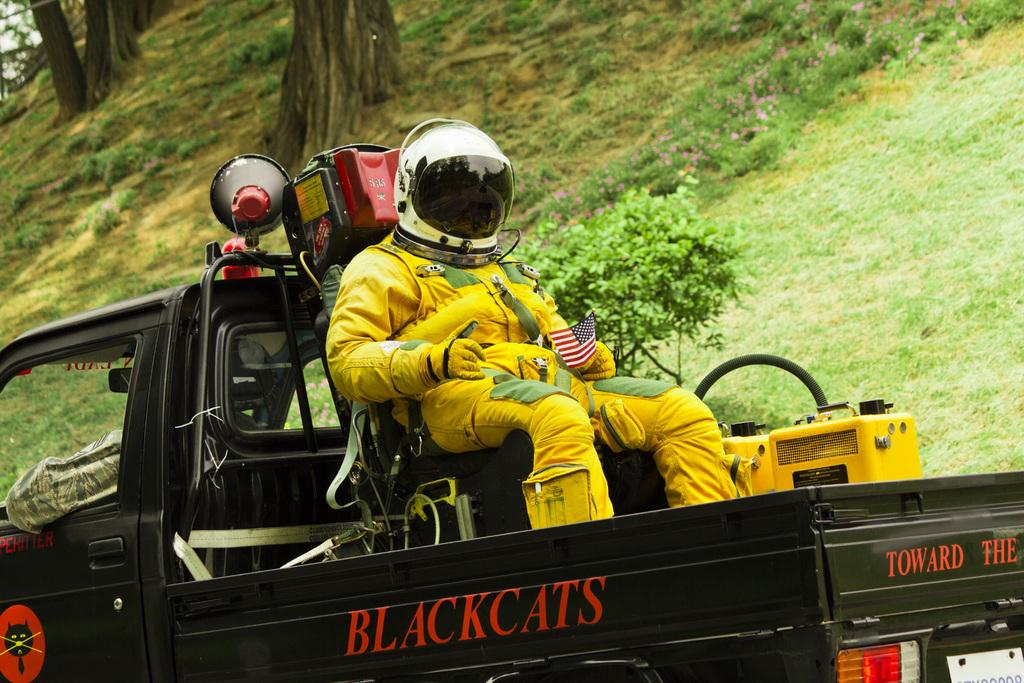helmet: (394, 124, 515, 265)
